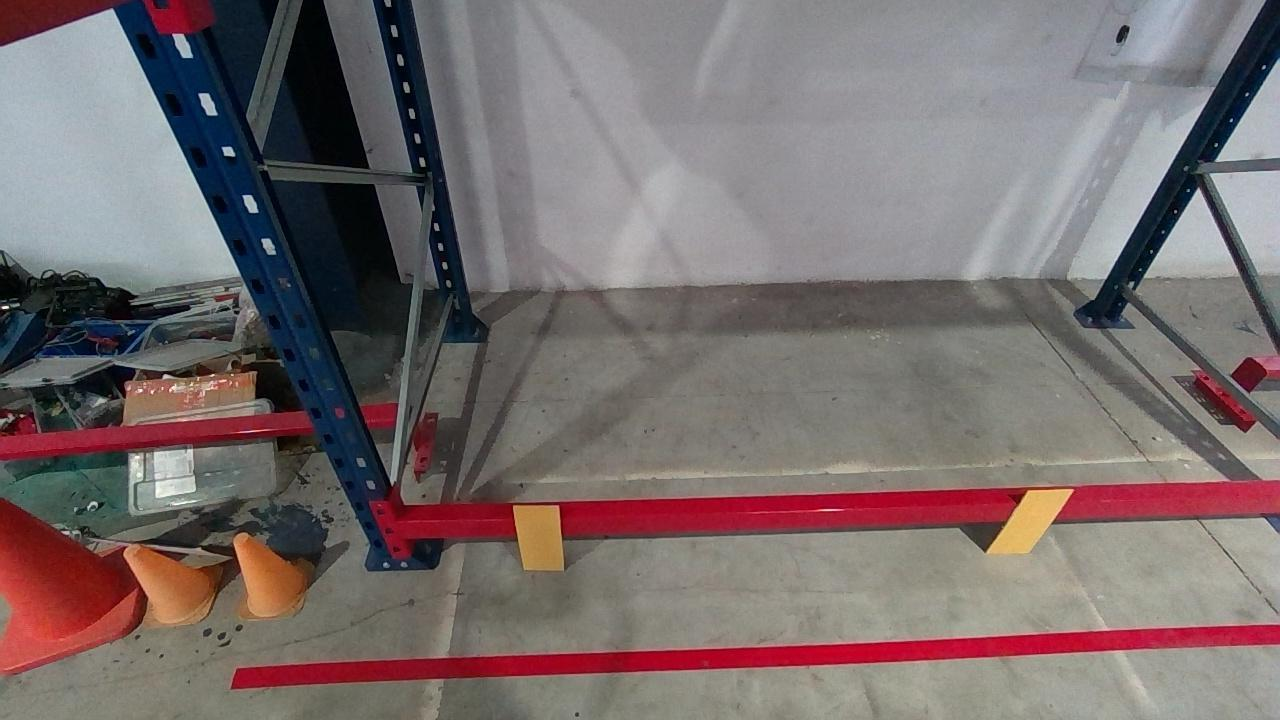h_rack: (393, 491, 1276, 539)
orange_strip: (985, 489, 1075, 554), (512, 505, 562, 569)
red_line: (224, 624, 1279, 689)
